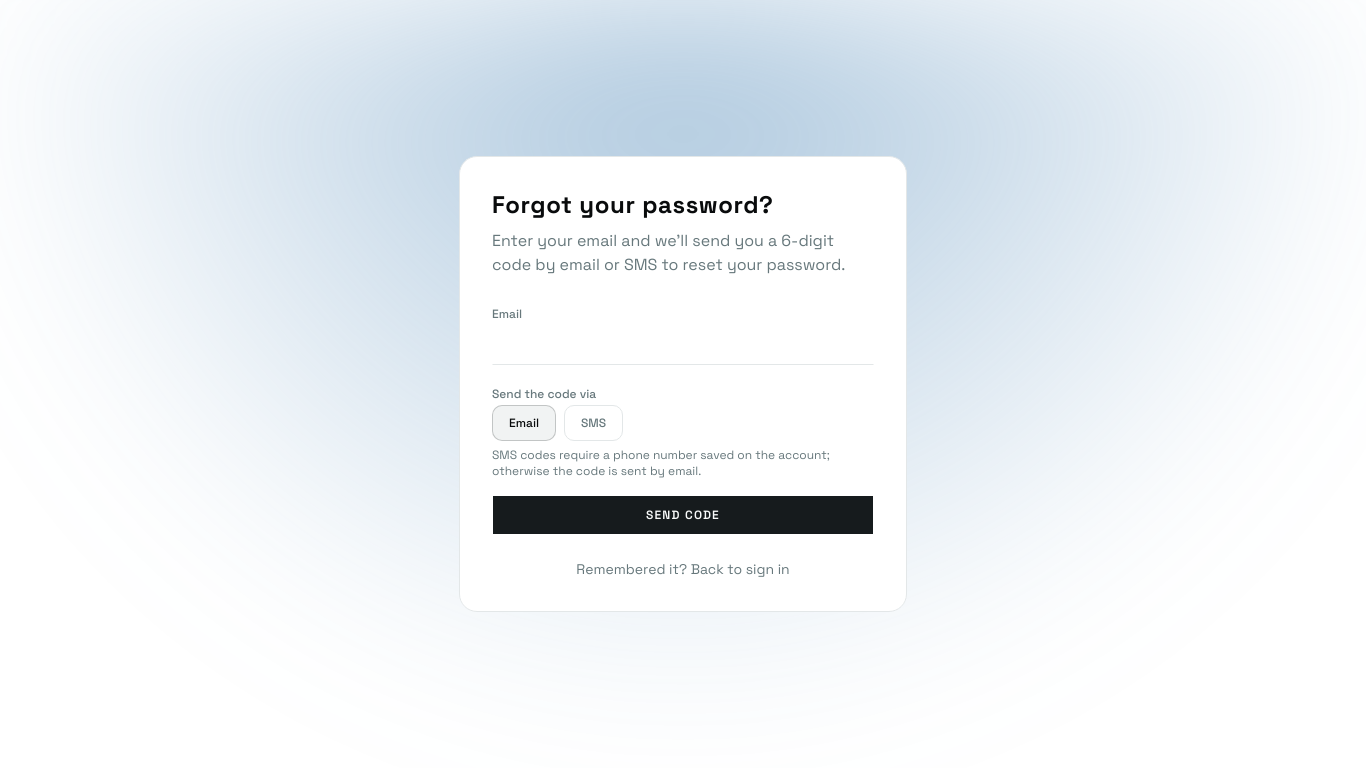
Scenario: ForgotPasswordPage › sends the code by SMS when the SMS radio is chosen
Click the radio button labelled "SMS" at (594, 423), box x1=564 y1=405 x2=623 y2=441
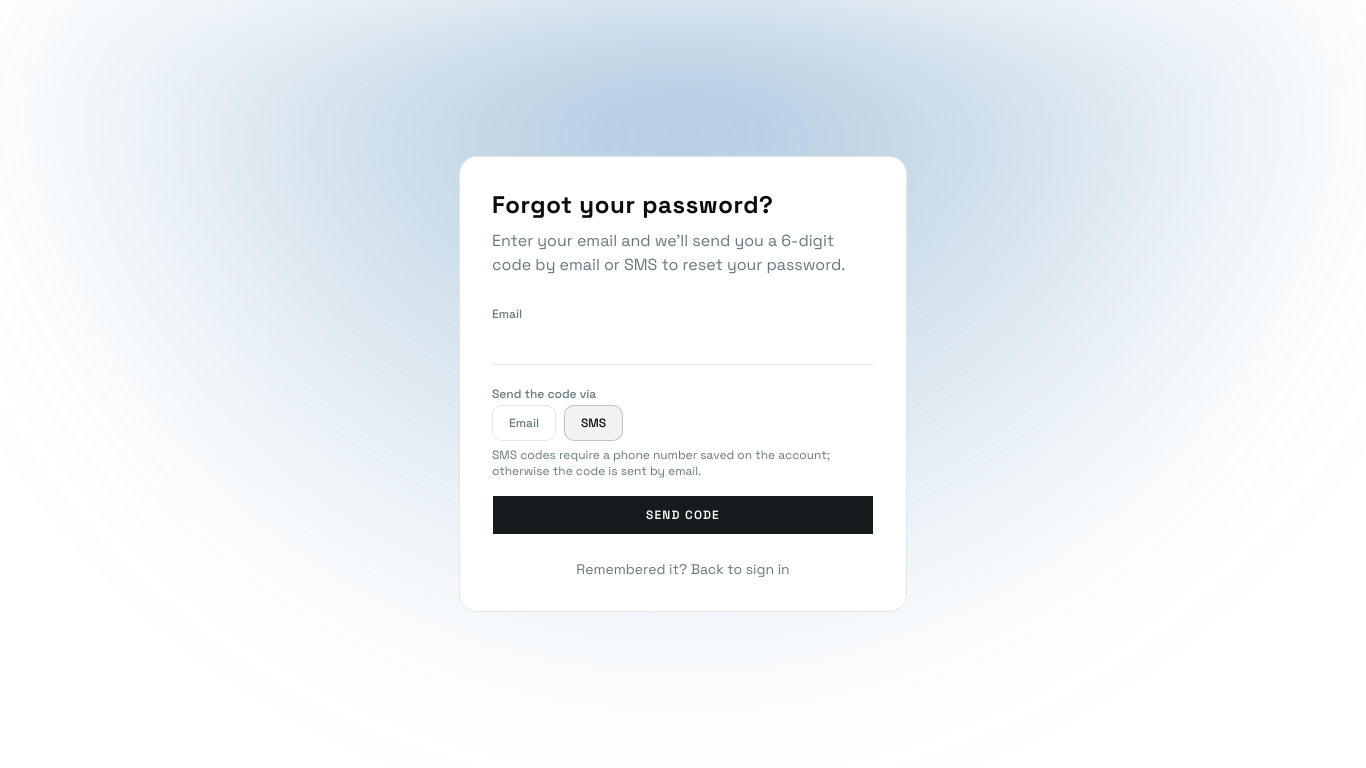
Type "lost@example.com" into the field labelled "Email" at (683, 345), box x1=492 y1=325 x2=874 y2=365
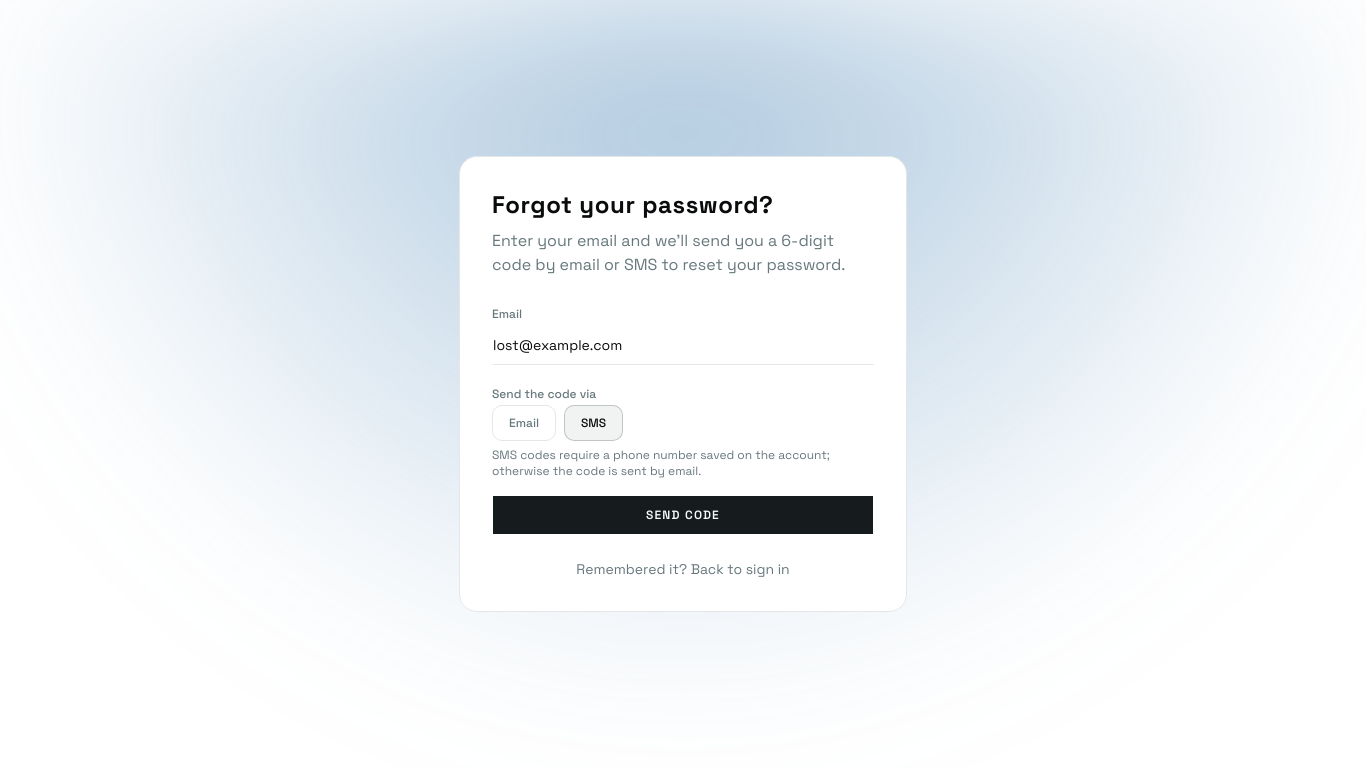
Click the button "Send code" at (683, 515), box x1=492 y1=495 x2=874 y2=535
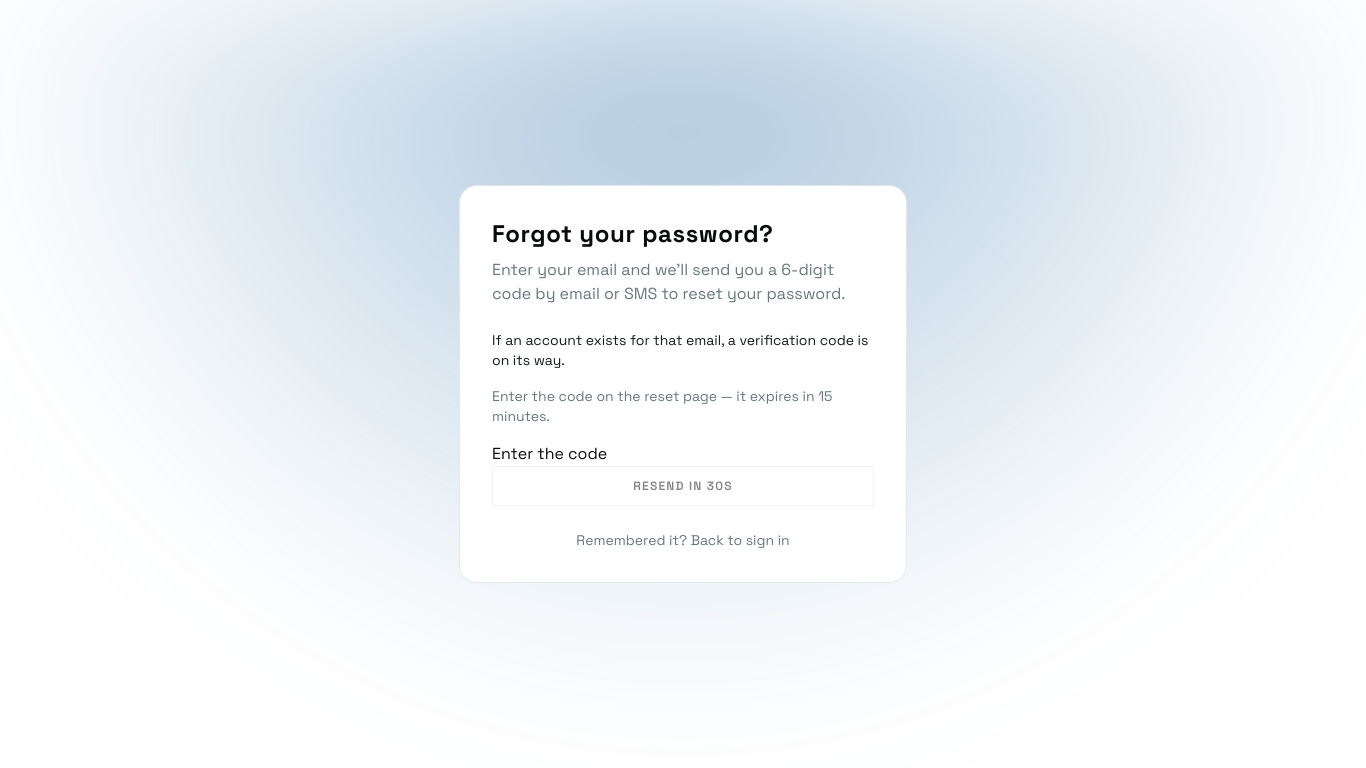
Now the text "If an account exists for that email, a verification code is on its way." is shown, box x1=492 y1=330 x2=874 y2=370
